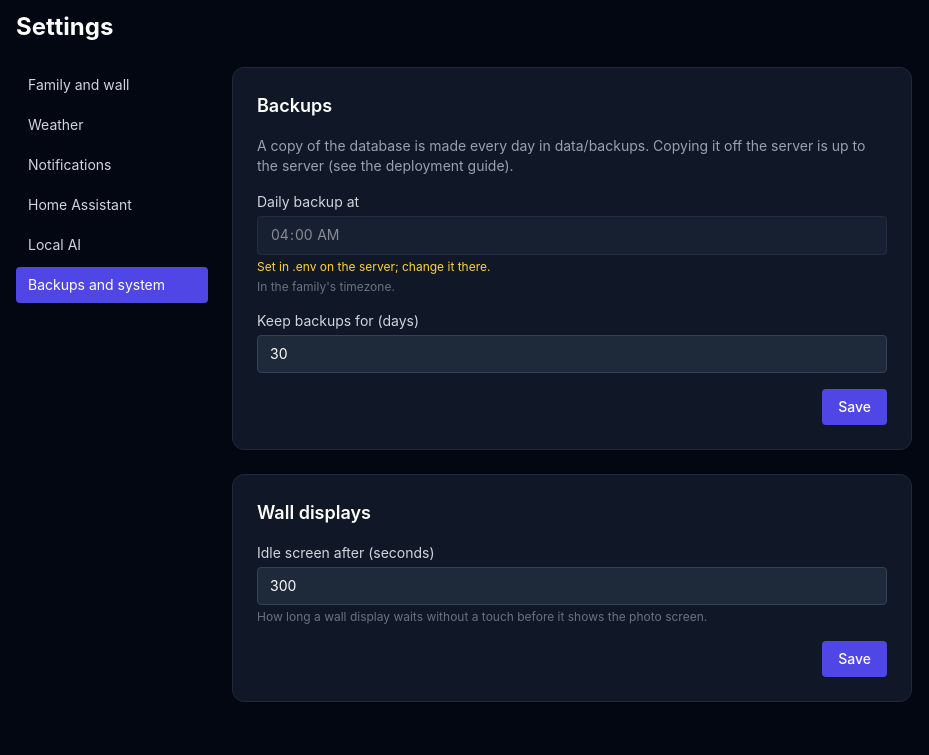
Test: Admin › Settings sections › shows what's set in .env as read-only, a secret that needs re-entering, and why a save failed
The image size is (929, 755).
Expected: the time field labelled "Daily backup at" is disabled, [257,216,887,255]
Expected: the text "Set in .env on the server; change it there." is shown, [257,259,490,274]
Replace the text in the number field labelled "Keep backups for (days)" with "0". click: coordinates (572, 354)
box: [257,335,887,373]
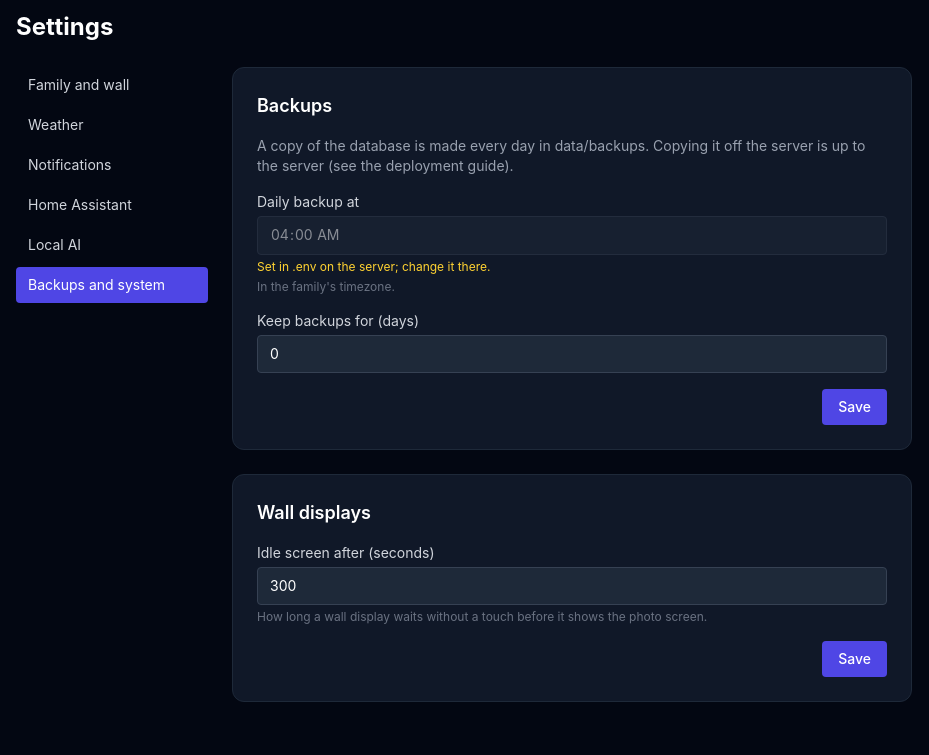
Click the 1st button "Save". click: coordinates (855, 407)
box: [822,389,887,425]
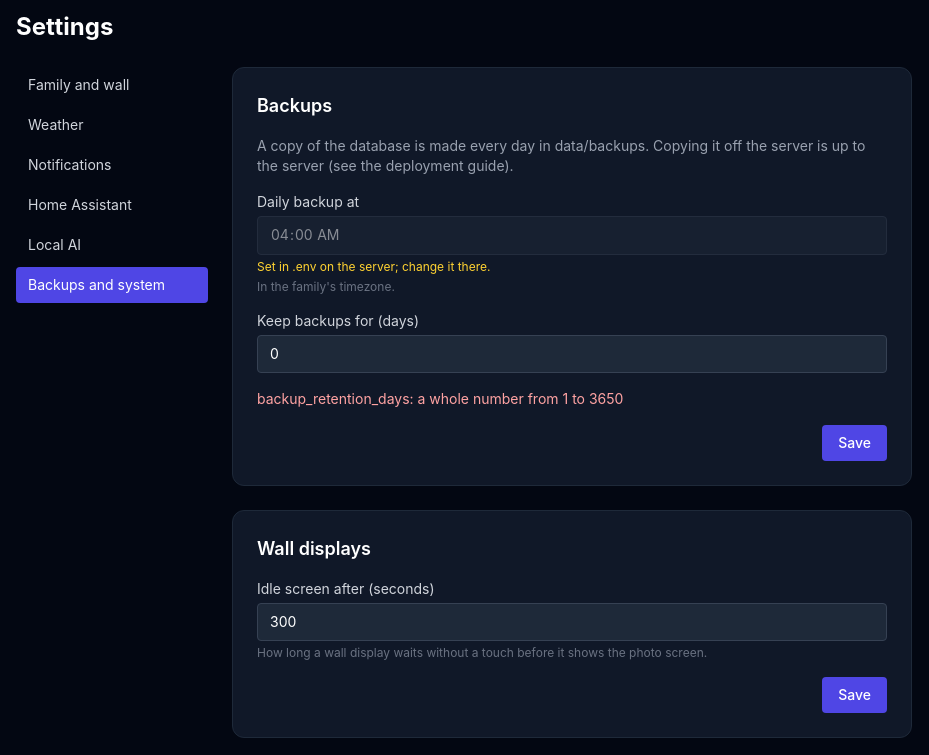
Result: the message shows "1 to 3650" at [257,390,623,407]
